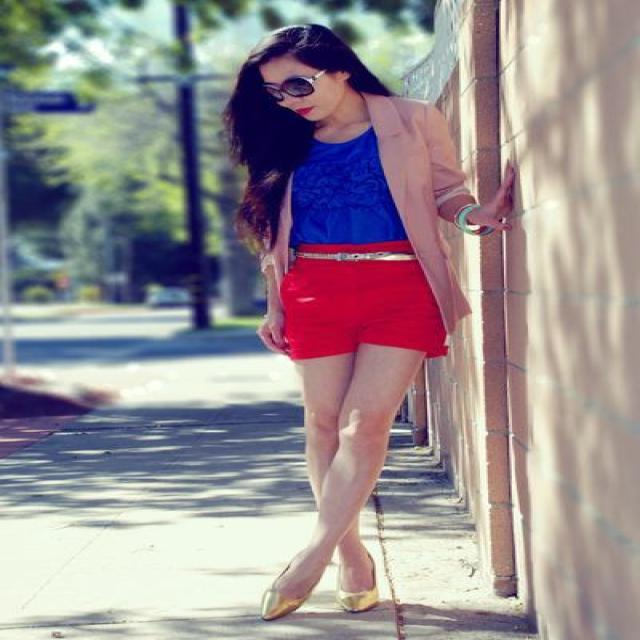jacket: (260, 90, 470, 332)
shirt: (289, 126, 402, 251)
shoe: (261, 585, 398, 625)
shorts: (280, 228, 448, 358)
sunglass: (267, 76, 314, 106)
